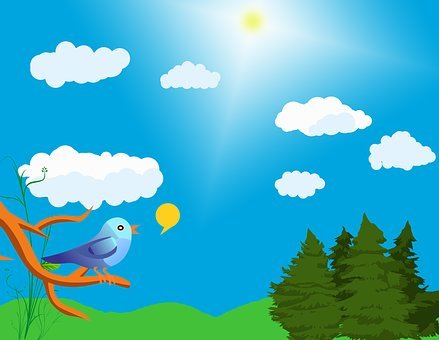bird: (36, 208, 144, 284)
